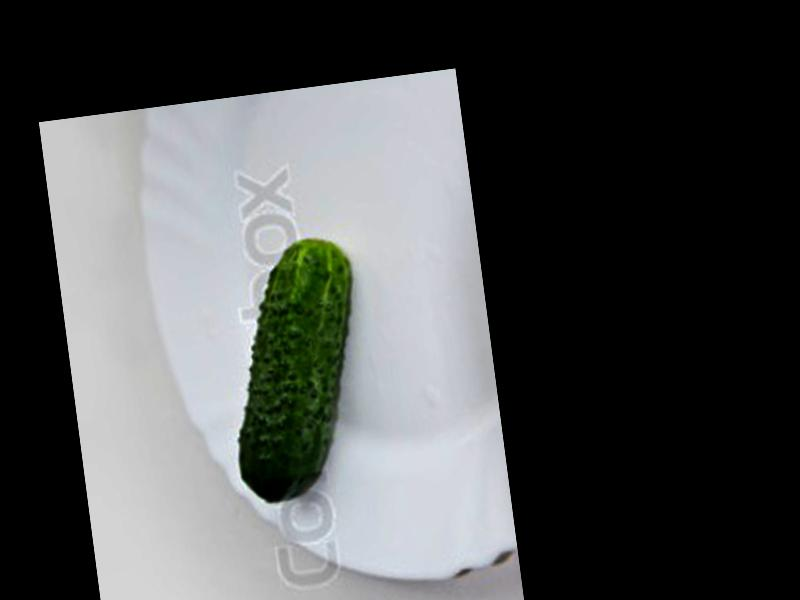Cucumber: (212, 236, 379, 503)
